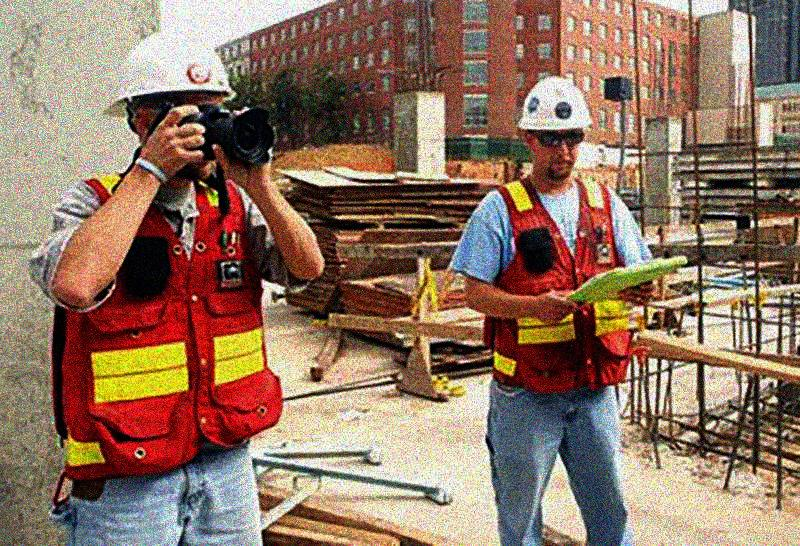helmet: (103, 31, 237, 174), (511, 75, 593, 182)
